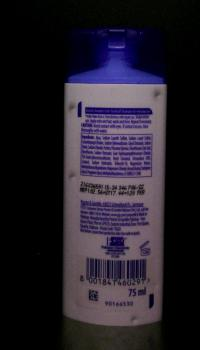dent_unacceptable: (118, 306, 144, 326), (147, 86, 166, 106), (64, 167, 78, 193), (64, 98, 81, 117)
